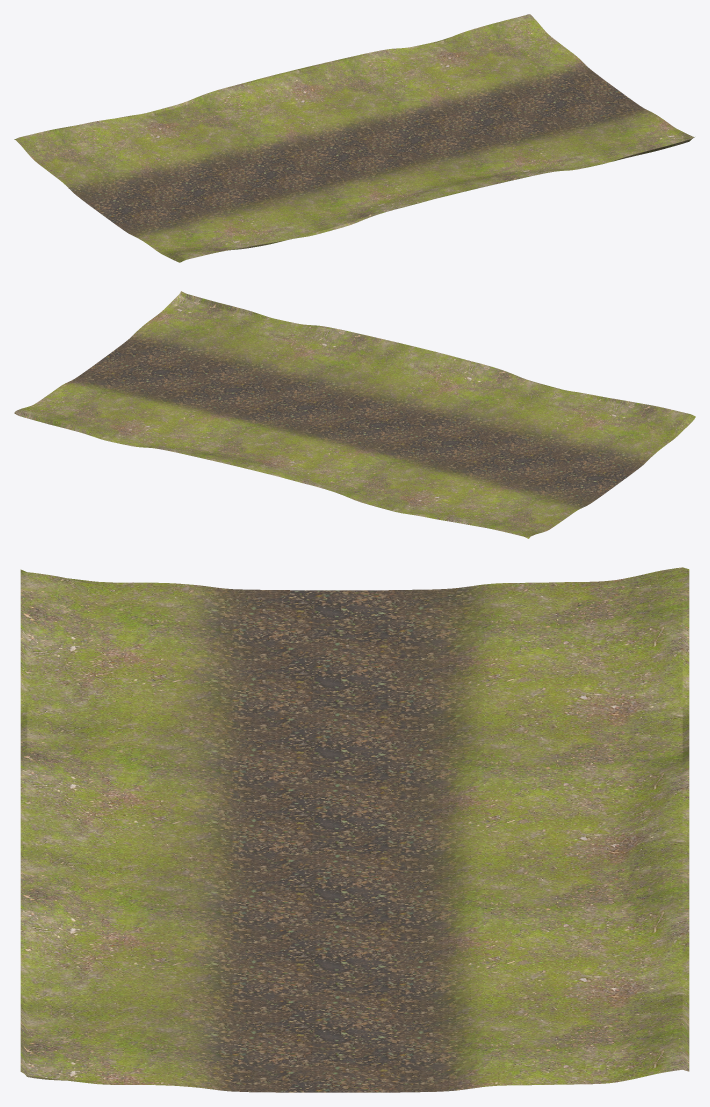
File: forest_path.gltf
The picture shows the model from 3 angles, top to bottom: view 1: azimuth 30°, elevation 25°; view 2: azimuth 150°, elevation 25°; view 3: azimuth 270°, elevation 25°; orthographic projection. The views are drawn at different scales.
Visible parts, largest first — view 1: ForestGround; view 2: ForestGround; view 3: ForestGround.
Boxes of the visible parts, x1,y1,x2,y2 form: ForestGround: (14,14,694,262); ForestGround: (14,291,695,538); ForestGround: (20,567,689,1092).
Size of the model in its own units: 64 by 1.45 by 36.
